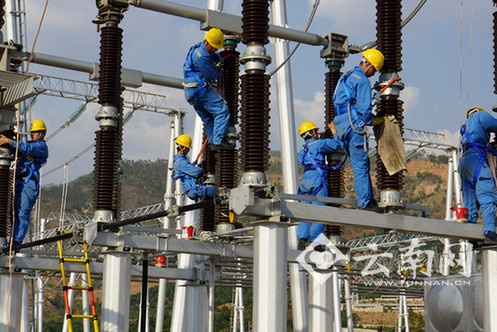yellow: (357, 49, 384, 76), (202, 27, 225, 53), (26, 119, 47, 142), (172, 133, 192, 156), (298, 121, 319, 142)
